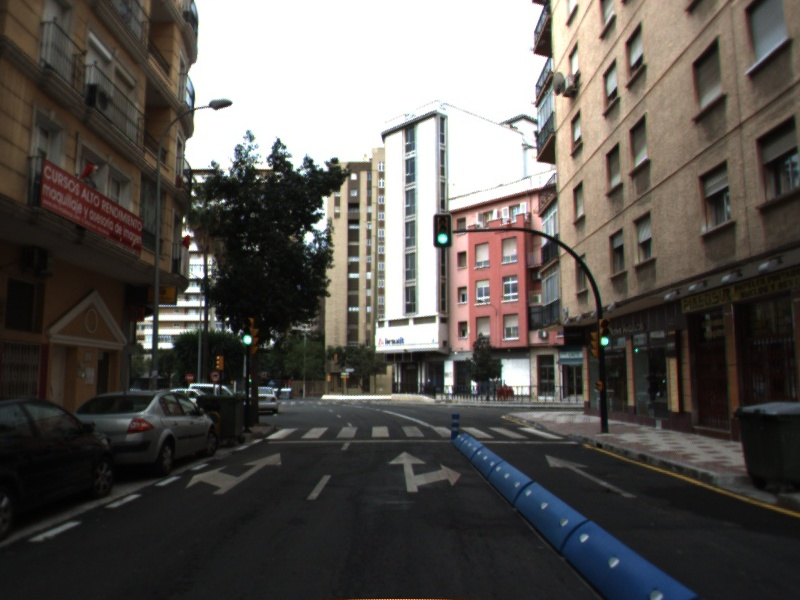STRAIGHT: (543, 453, 639, 499)
STRAIGHT_LEFT: (183, 451, 283, 496)
STRAIGHT_RIGHT: (386, 449, 464, 494)
